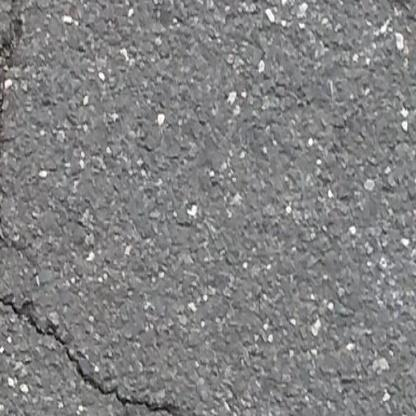Cracks: (0, 268, 210, 416), (0, 0, 31, 253)
